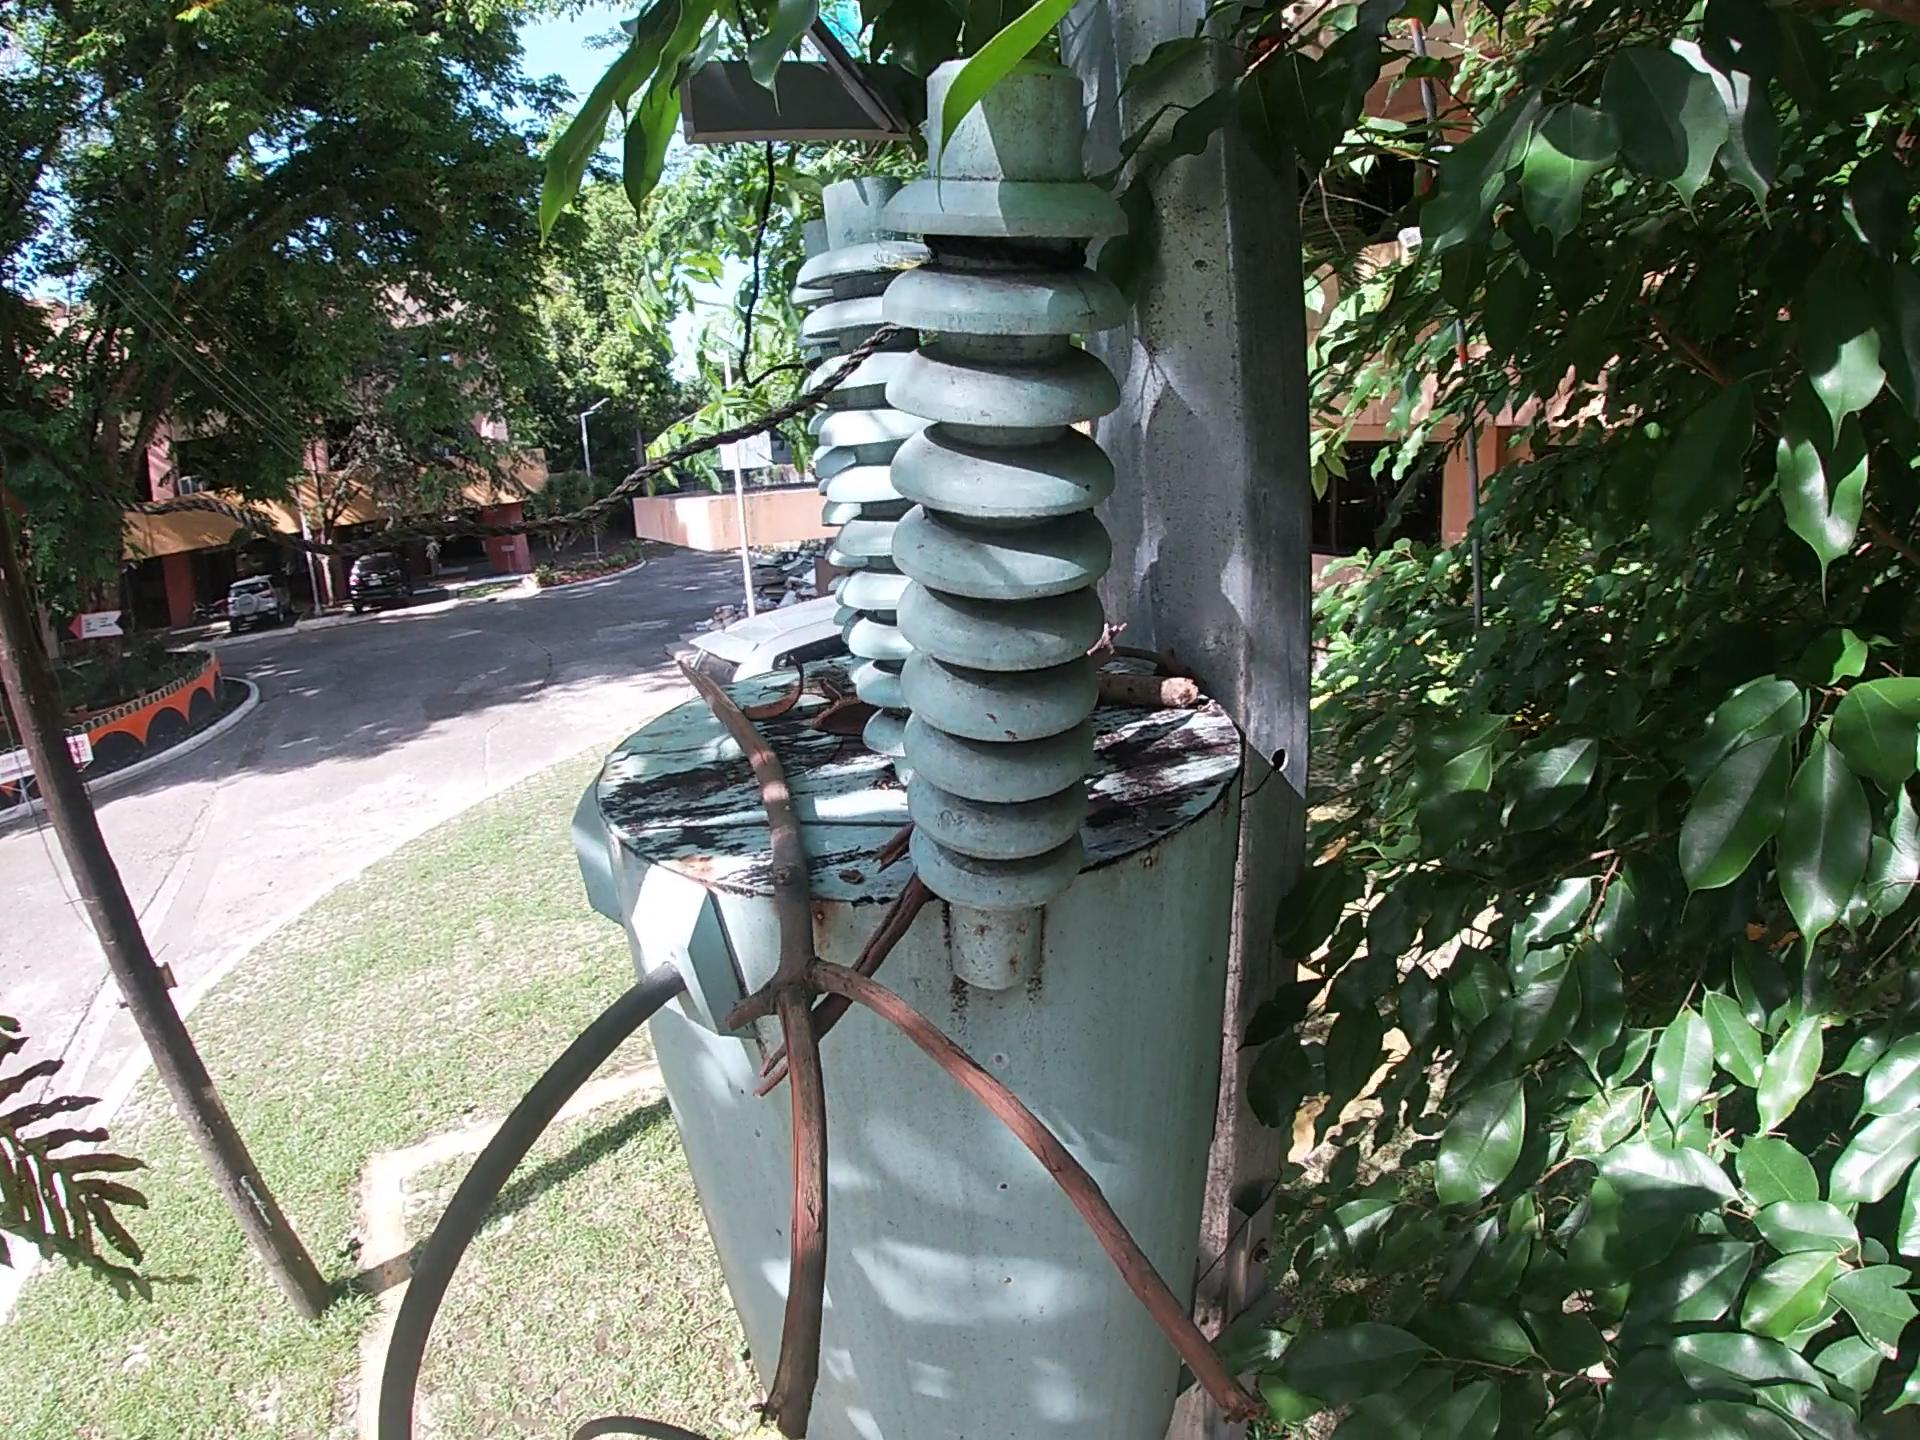mahogany fruit: (736, 650, 812, 725), (806, 694, 884, 746)
tree branch: (653, 643, 1300, 1434), (751, 868, 940, 1109), (1089, 667, 1205, 714), (1101, 638, 1212, 687)
